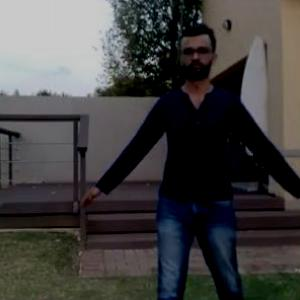land: (102, 50, 281, 299)
